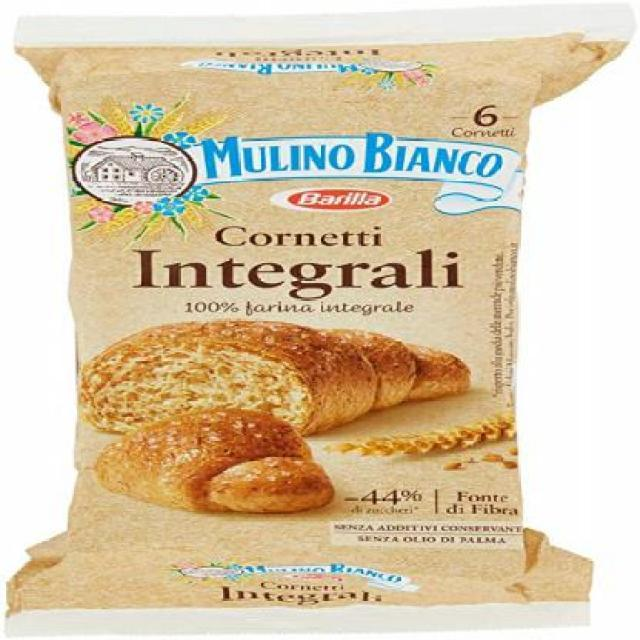Merendine: (13, 44, 612, 630)
